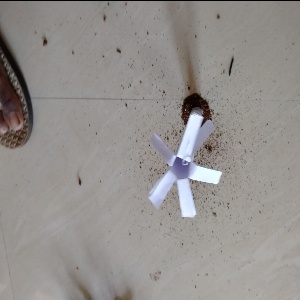weed: (144, 101, 226, 213)
